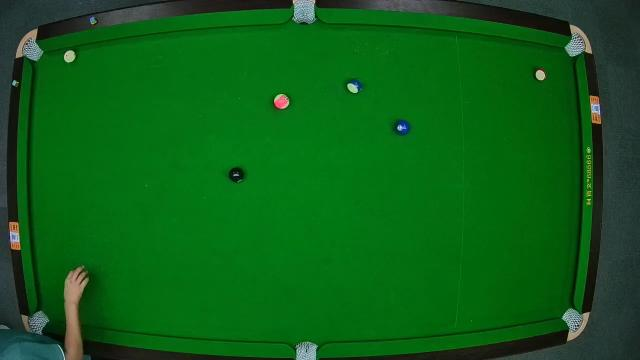bag1: (22, 38, 44, 60)
bag2: (291, 0, 317, 26)
bag3: (566, 29, 588, 57)
bag4: (29, 310, 49, 334)
bag5: (294, 340, 318, 360)
bag6: (563, 308, 585, 332)
ball0: (62, 48, 78, 64)
ball10: (344, 78, 362, 96)
ball11: (534, 67, 548, 81)
ball12: (274, 92, 290, 110)
ball2: (394, 121, 410, 135)
ball8: (230, 168, 244, 184)
